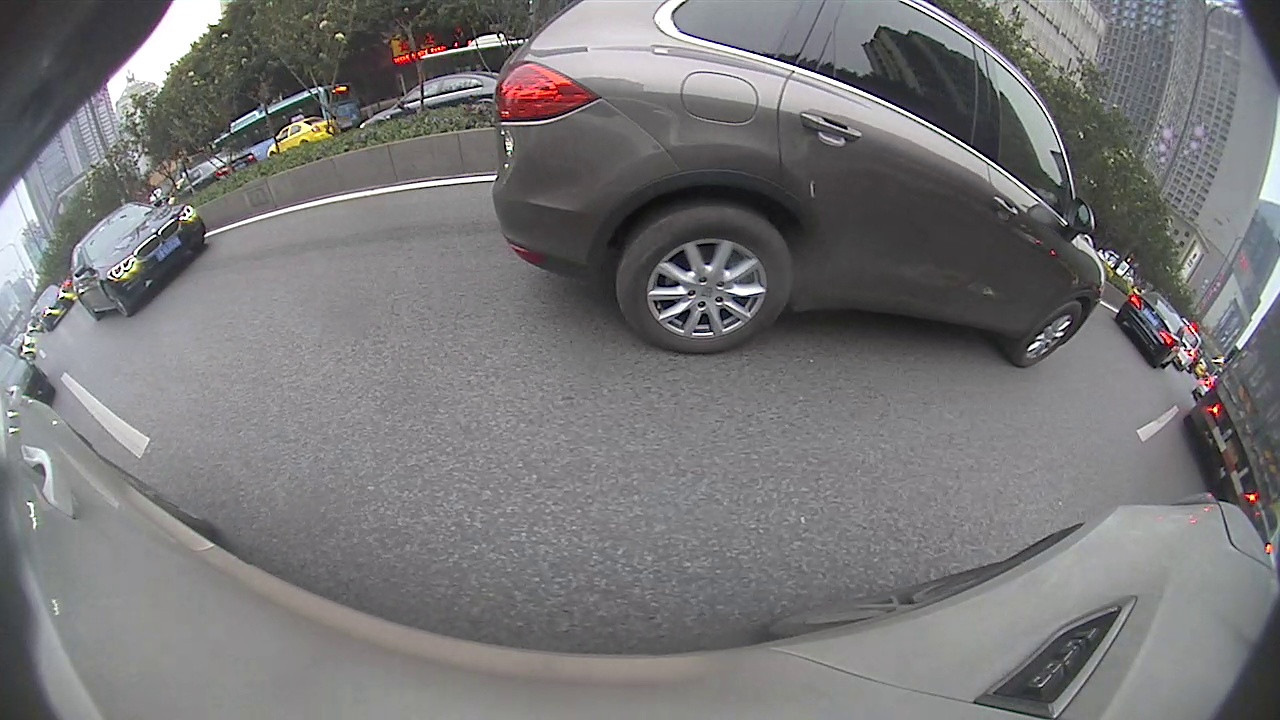car: (495, 0, 1106, 370), (71, 199, 205, 315), (1118, 287, 1184, 368)
front: (1015, 303, 1085, 369), (100, 281, 131, 315)
rear: (621, 203, 792, 357)
